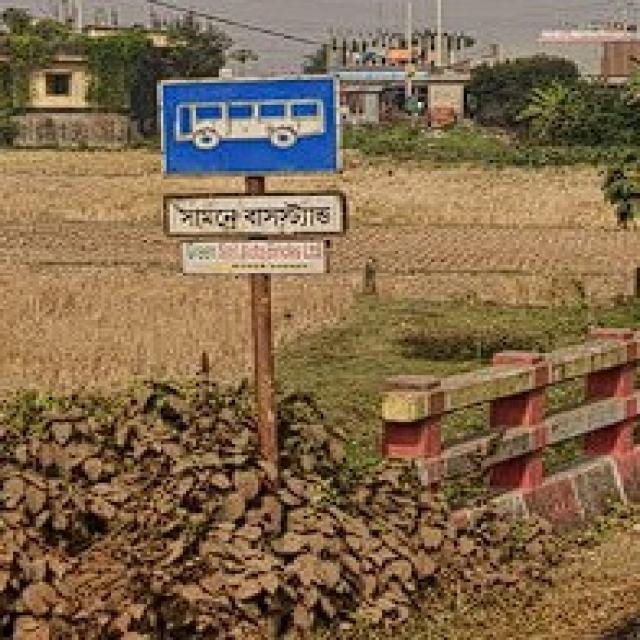Ahead-the-bus-station: (156, 74, 351, 236)
